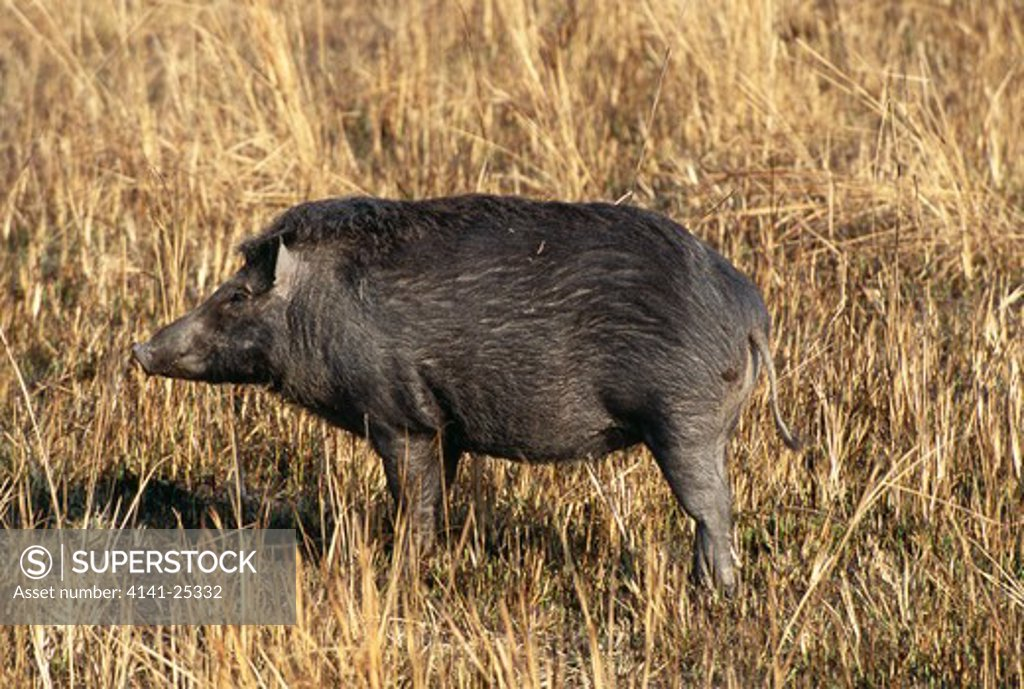wild boar: (125, 191, 810, 602)
